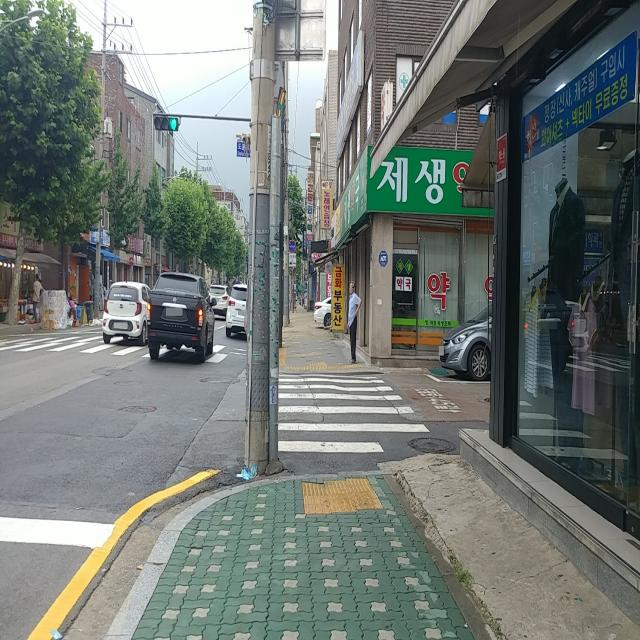횡단보도: (278, 373, 430, 454), (6, 334, 238, 368)
